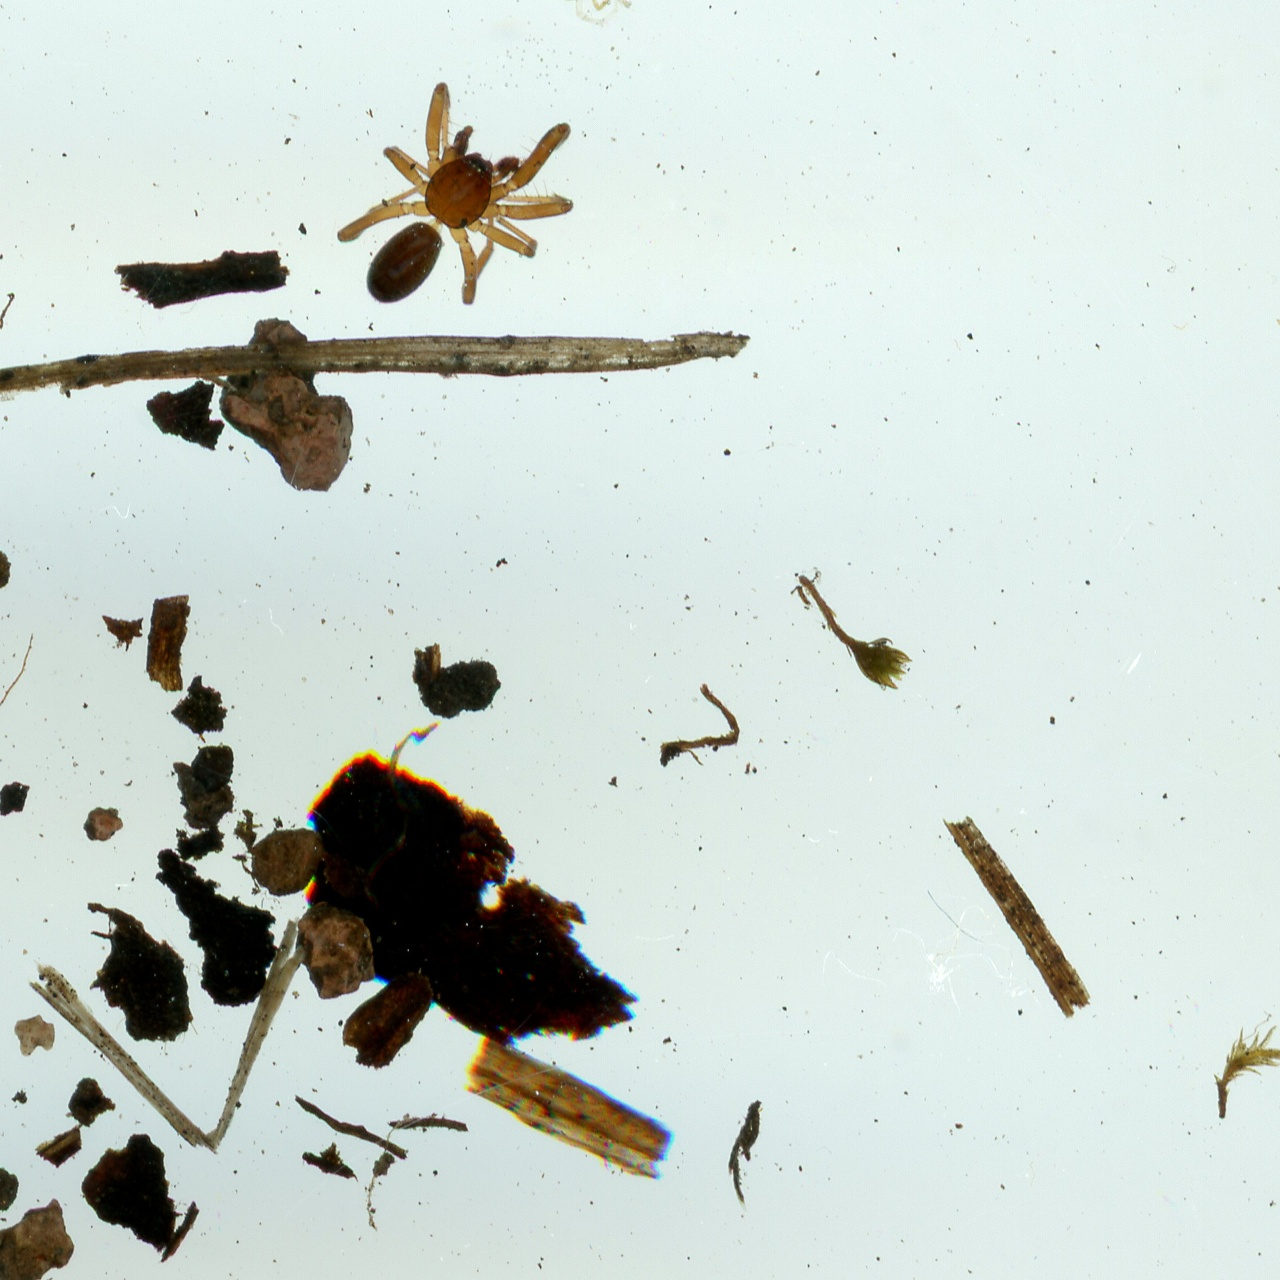arthropod: (332, 77, 584, 311), (536, 0, 662, 34)
